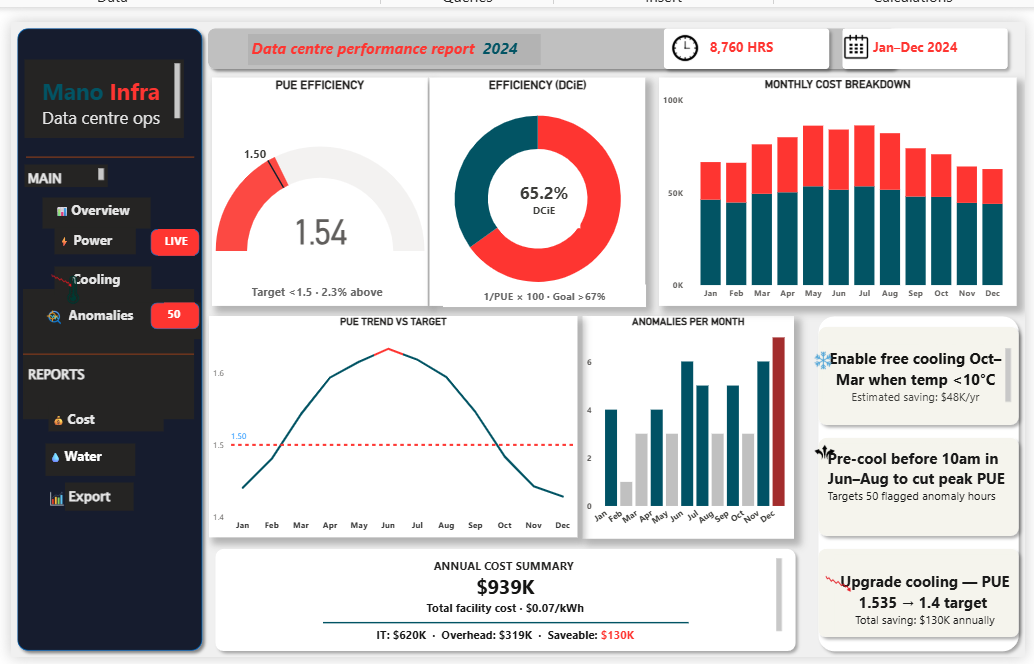

The dashboard page shown, as its layout file describes it:
{"tool":"powerbi","page":{"name":"Page 1","canvas":[1438,900],"ordinal":0},"visuals":[{"type":"shape","box":[0,0,280.3,900.7],"z":0},{"type":"shape","box":[270.4,0,996.1,75.6],"z":1000},{"type":"textbox","box":[19.1,52.5,225.9,111.3],"z":2000},{"type":"shape","box":[21.9,133.2,238.6,115.3],"z":3000},{"type":"shape","box":[17.9,377.8,242.6,184.9],"z":4000},{"type":"textbox","box":[19.1,202,117.7,31.8],"z":5000},{"type":"textbox","box":[53.7,544.8,163,35.8],"z":6000},{"type":"textbox","box":[49.7,598.5,127.2,45.7],"z":7000},{"type":"textbox","box":[19.9,481.2,115.3,47.7],"z":8000},{"type":"textbox","box":[77.5,654.1,97.4,39.8],"z":9000},{"type":"textbox","box":[45.7,248.5,153.1,43.7],"z":10000},{"type":"textbox","box":[61.6,292.3,115.3,37.8],"z":11000},{"type":"textbox","box":[61.6,346,137.2,39.8],"z":12000},{"type":"textbox","box":[77.5,397.7,192.9,51.7],"z":13000},{"type":"gauge","title":"PUE EFFICIENCY","fields":{"Y":["datacenter_power_data (2).Avg PUE"],"MinValue":["datacenter_power_data (2).PUE Min"],"MaxValue":["datacenter_power_data (2).PUE Max"],"TargetValue":["datacenter_power_data (2).Target PUE"]},"box":[284.3,79.5,306,324],"z":14000},{"type":"textbox","box":[336,365.8,210.8,31.8],"z":15000},{"type":"donutChart","title":"EFFICIENCY (DCiE)","fields":{"Y":["datacenter_power_data (2).Avg DCiE %","datacenter_power_data (2).DCiE Remainder"]},"box":[594.5,79.5,306.2,324.1],"z":16000},{"type":"textbox","box":[703.8,218.7,103.4,73.6],"z":17000},{"type":"textbox","box":[612.4,371.8,288.3,31.8],"z":18000},{"type":"columnChart","title":"ANOMALIES PER MONTH","fields":{"Y":["datacenter_power_data (2).Anomaly Count"],"Category":["monthly_summary.month_name"]},"box":[811.2,417.5,300.2,316.1],"z":19000},{"type":"lineChart","title":"PUE TREND VS TARGET","fields":{"Category":["monthly_summary.month_name"],"Y":["datacenter_power_data (2).Avg PUE"]},"box":[280.3,417.5,522.9,314.1],"z":20000},{"type":"columnChart","title":"MONTHLY COST BREAKDOWN","fields":{"Category":["monthly_summary.month_name"],"Y":["datacenter_power_data (2).IT Cost USD","datacenter_power_data (2).Overhead Cost USD"]},"box":[918.6,79.5,507,324.1],"z":21000},{"type":"shape","box":[280.3,737.6,841,163],"z":22000},{"type":"shape","box":[1135.3,407.6,302.2,493.1],"z":23000},{"type":"textbox","box":[336,17.9,415.5,43.7],"z":24000},{"type":"shape","box":[1171.1,0,252.5,75.6],"z":25000},{"type":"textbox","box":[1193,17.9,173,43.7],"z":26000},{"type":"shape","box":[916.6,0,252.5,75.6],"z":27000},{"type":"textbox","box":[954.4,17.9,167,43.7],"z":28000},{"type":"textbox","box":[312.2,755.5,785.4,129.2],"z":29000},{"type":"shape","box":[443.4,805.2,518.9,95.4],"z":30000},{"type":"shape","box":[1135.3,423.5,302.2,157.1],"z":31000},{"type":"shape","box":[1135.3,580.6,302.2,157.1],"z":32000},{"type":"shape","box":[1135.3,737.6,302.2,143.2],"z":33000},{"type":"textbox","box":[1151.2,457.3,272.4,87.5],"z":34000},{"type":"textbox","box":[1153.2,598.5,270.4,125.3],"z":35000},{"type":"textbox","box":[1167.1,755.5,256.5,111.3],"z":36000},{"type":"image","box":[1135.3,457.3,31.8,45.7],"z":37000},{"type":"image","box":[1135.3,576.6,35.8,67.6],"z":38000},{"type":"image","box":[1153.2,771.4,39.8,49.7],"z":39000},{"type":"image","box":[926.5,15.9,61.6,43.7],"z":40000},{"type":"image","box":[1171.1,17.9,57.7,35.8],"z":41000},{"type":"image","box":[37.8,349.9,99.4,63.6],"z":42000},{"type":"image","box":[55.7,662.1,19.9,29.8],"z":43000},{"type":"image","box":[47.7,407.6,27.8,19.9],"z":44000},{"type":"shape","box":[198.8,294.3,69.6,37.8],"z":45000},{"type":"shape","box":[198.8,397.7,69.6,37.8],"z":46000},{"type":"textbox","box":[208.8,294.3,51.7,37.8],"z":47000},{"type":"textbox","box":[216.7,397.7,43.7,33.8],"z":48000},{"type":"image","box":[55.7,346,31.8,39.8],"z":49000}]}

Visuals, with their boxes in screenshot pixels (x1, y1, x2, y2):
shape: box=[0, 13, 199, 652]
shape: box=[192, 13, 898, 67]
textbox: box=[14, 51, 174, 130]
shape: box=[16, 108, 185, 190]
shape: box=[13, 281, 185, 412]
textbox: box=[14, 157, 97, 179]
textbox: box=[38, 400, 154, 425]
textbox: box=[35, 438, 125, 470]
textbox: box=[14, 355, 96, 389]
textbox: box=[55, 477, 124, 506]
textbox: box=[32, 190, 141, 221]
textbox: box=[44, 221, 125, 248]
textbox: box=[44, 259, 141, 287]
textbox: box=[55, 295, 192, 332]
"PUE EFFICIENCY" gauge: box=[202, 70, 419, 300]
textbox: box=[238, 273, 388, 295]
"EFFICIENCY (DCiE)" donutChart: box=[422, 70, 639, 300]
textbox: box=[499, 169, 572, 221]
textbox: box=[434, 277, 639, 300]
"ANOMALIES PER MONTH" columnChart: box=[575, 310, 788, 534]
"PUE TREND VS TARGET" lineChart: box=[199, 310, 570, 532]
"MONTHLY COST BREAKDOWN" columnChart: box=[651, 70, 1011, 300]
shape: box=[199, 536, 795, 652]
shape: box=[805, 302, 1019, 652]
textbox: box=[238, 26, 533, 57]
shape: box=[830, 13, 1009, 67]
textbox: box=[846, 26, 969, 57]
shape: box=[650, 13, 829, 67]
textbox: box=[677, 26, 795, 57]
textbox: box=[221, 549, 778, 641]
shape: box=[314, 584, 682, 652]
shape: box=[805, 314, 1019, 425]
shape: box=[805, 425, 1019, 537]
shape: box=[805, 536, 1019, 638]
textbox: box=[816, 338, 1009, 400]
textbox: box=[818, 438, 1009, 527]
textbox: box=[828, 549, 1009, 628]
image: box=[805, 338, 828, 370]
image: box=[805, 422, 830, 470]
image: box=[818, 560, 846, 596]
image: box=[657, 25, 701, 56]
image: box=[830, 26, 871, 52]
image: box=[27, 262, 97, 307]
image: box=[39, 483, 54, 504]
image: box=[34, 302, 54, 317]
shape: box=[141, 222, 190, 249]
shape: box=[141, 295, 190, 322]
textbox: box=[148, 222, 185, 249]
textbox: box=[154, 295, 185, 319]
image: box=[39, 259, 62, 287]
